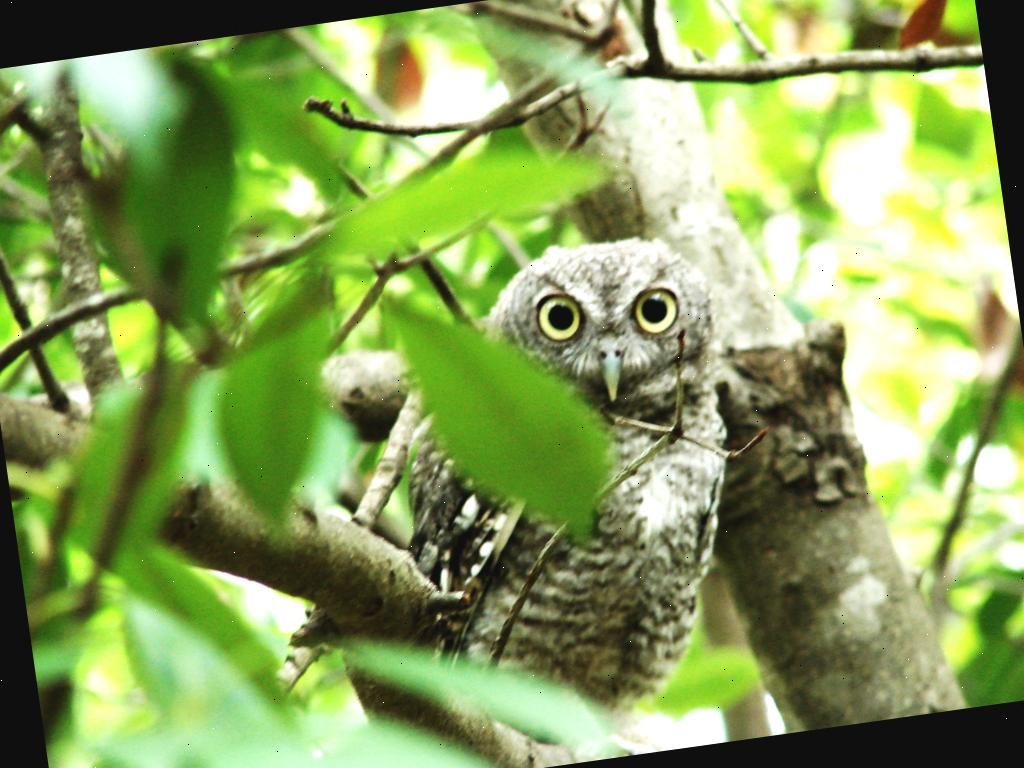Owl: (354, 221, 775, 745)
